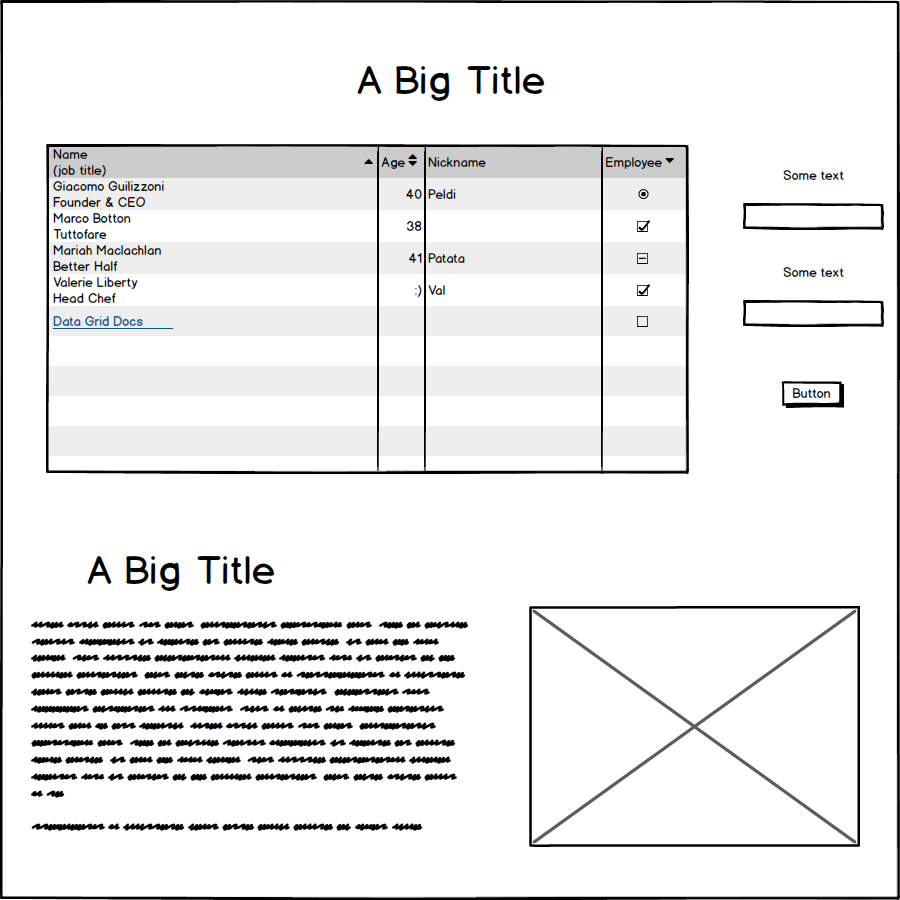button: (778, 373, 848, 411)
h1: (349, 47, 556, 112), (81, 541, 279, 595)
image: (527, 600, 870, 848)
input: (737, 292, 889, 334), (739, 197, 889, 236)
label: (775, 162, 853, 188), (776, 258, 850, 282)
p: (30, 618, 478, 834)
table: (39, 137, 700, 485)
